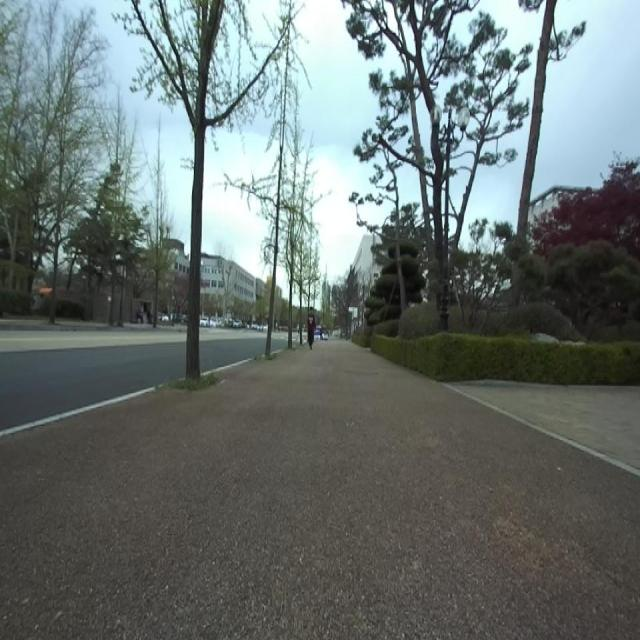sidewalk: (0, 339, 640, 639)
